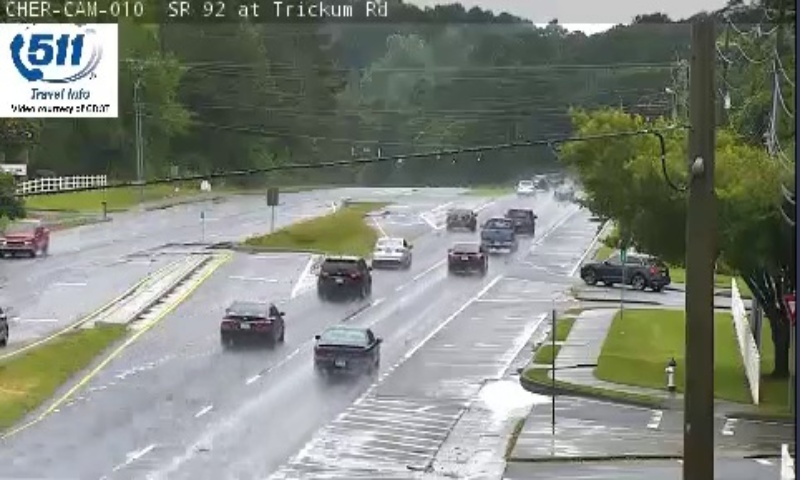car: (315, 328, 380, 371), (220, 301, 282, 342), (318, 258, 370, 297), (371, 236, 411, 265), (448, 243, 486, 272), (479, 216, 512, 247), (504, 209, 534, 234), (446, 209, 474, 229)
